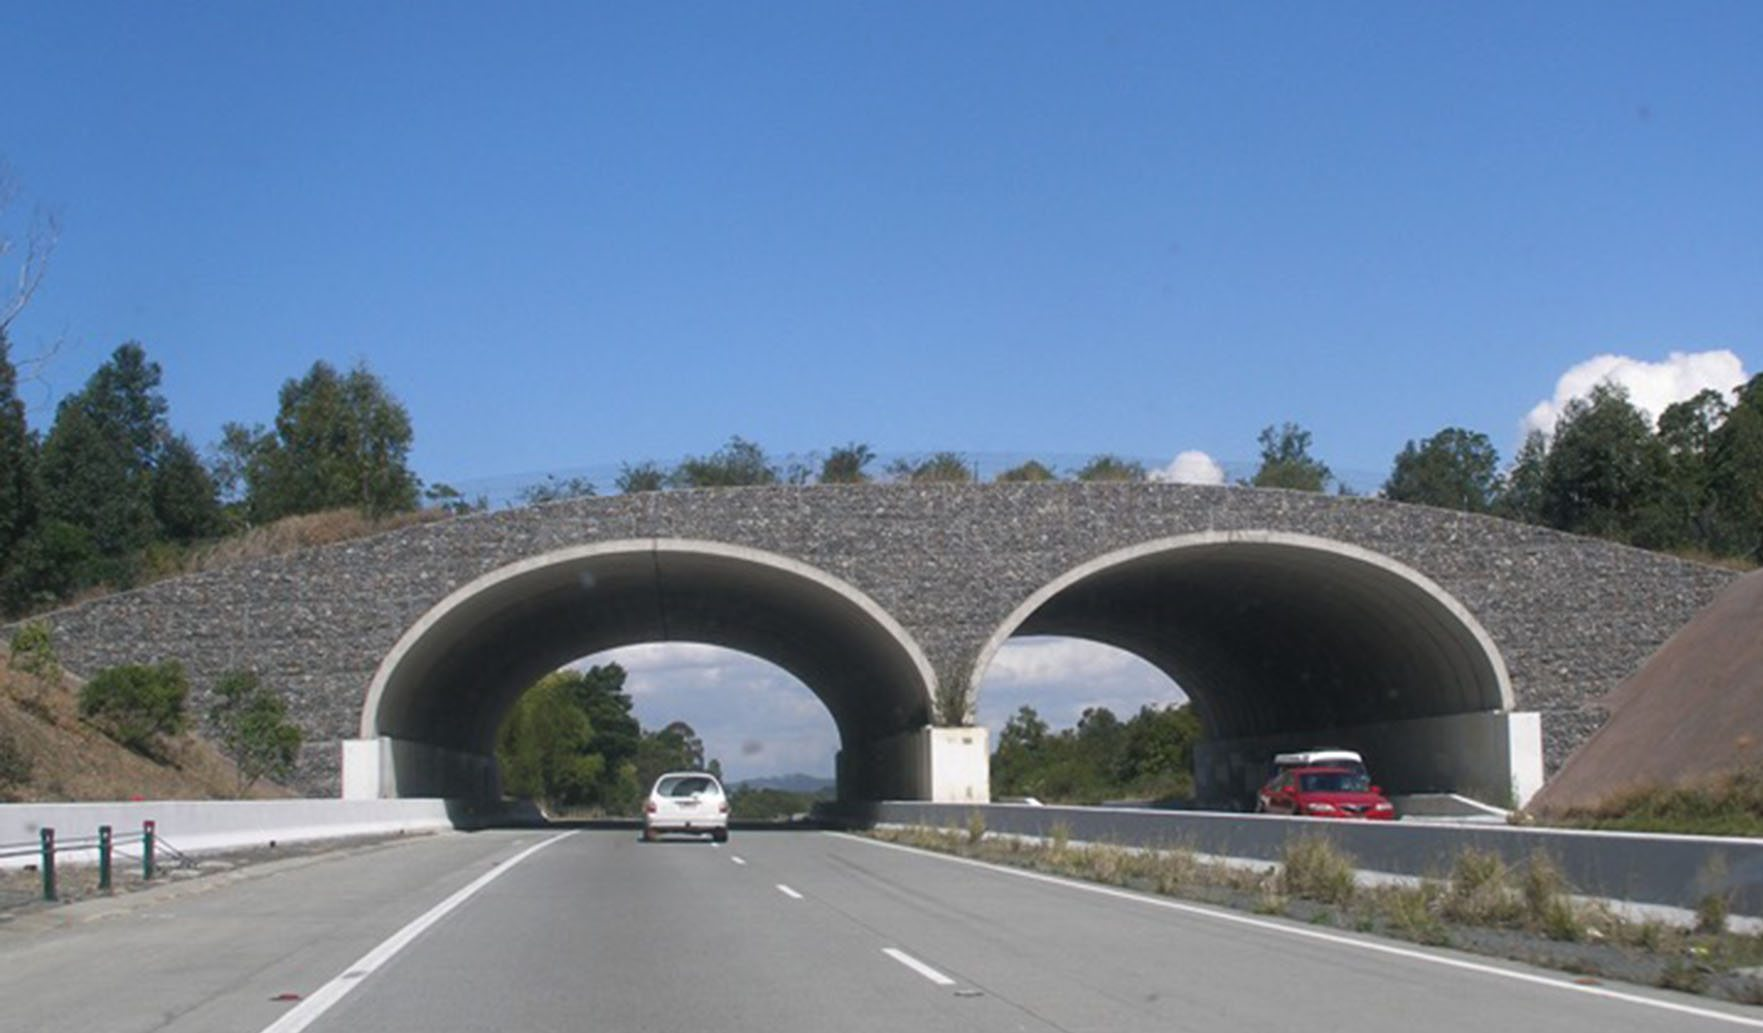bridge: (11, 478, 1745, 836)
